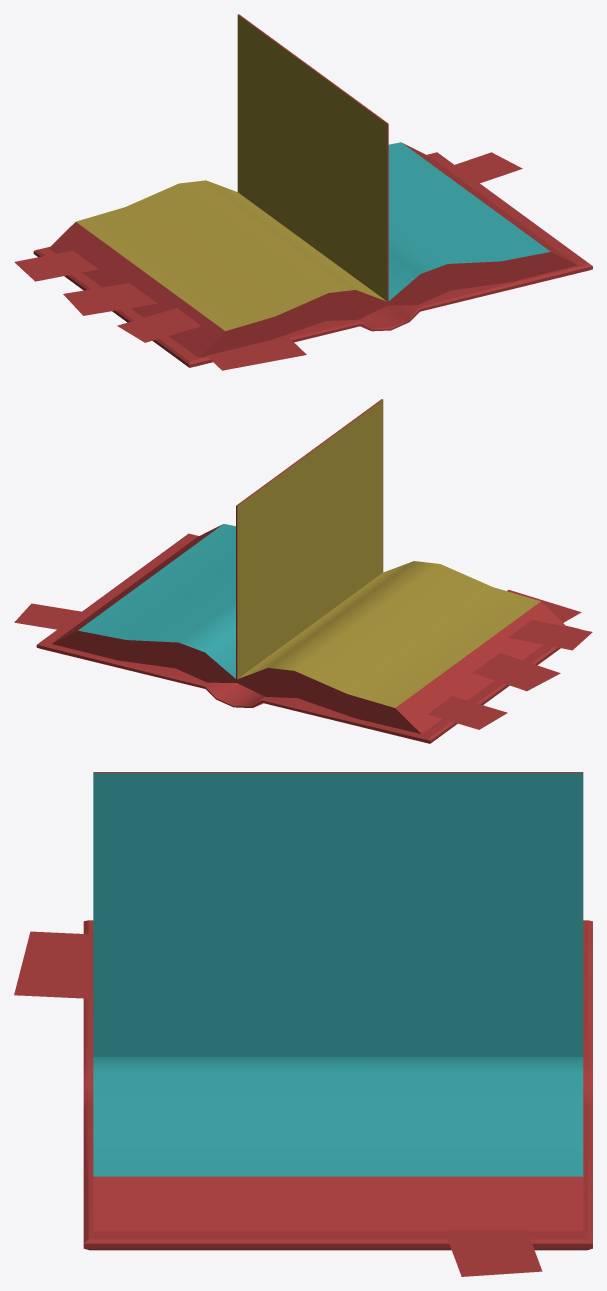
Rendered from journal_please_work.fbx.
3 renders of one model, top to bottom at view 1: azimuth 30°, elevation 25°; view 2: azimuth 150°, elevation 25°; view 3: azimuth 270°, elevation 25°, orthographic. The views are drawn at different scales.
Parts seen in each view (by area): view 1: journal_combined; view 2: journal_combined; view 3: journal_combined.
Boxes of the visible parts, x1,y1,x2,y2 form: journal_combined: (14, 14, 592, 370); journal_combined: (14, 399, 592, 743); journal_combined: (14, 772, 592, 1276).
Bounding box in the file's own units: 148 × 59.37 × 92.58.
